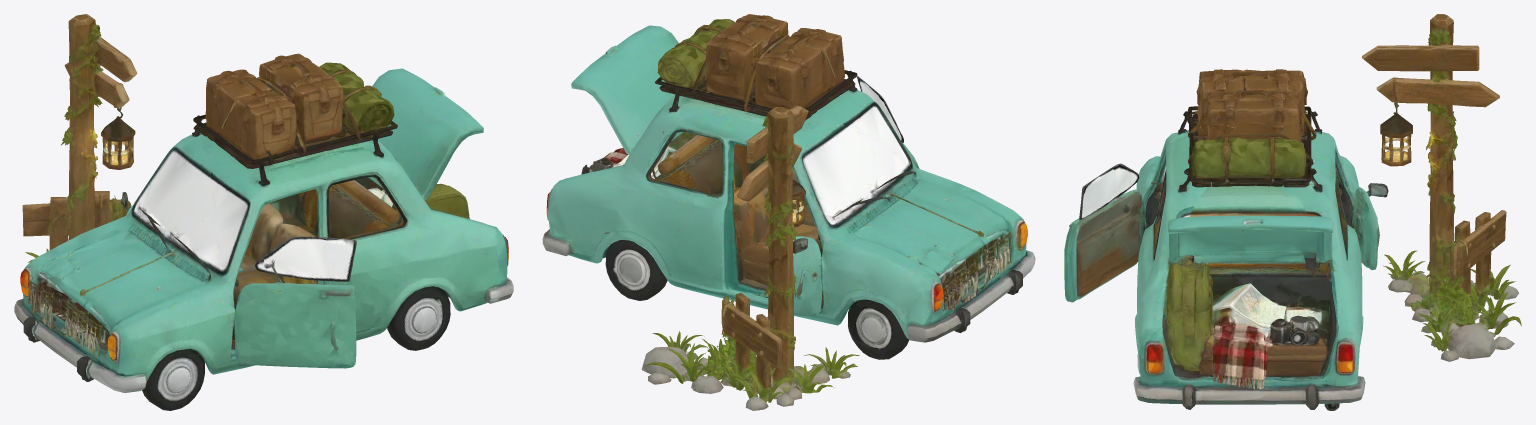
The model's file is spontanno0.glb.
The picture shows the model from 3 angles, left to right: view 1: azimuth 30°, elevation 25°; view 2: azimuth 150°, elevation 25°; view 3: azimuth 270°, elevation 25°; orthographic projection. The views are drawn at different scales.
Parts seen in each view (by area): view 1: mesh_node; view 2: mesh_node; view 3: mesh_node.
Part boxes in pixels (x1=…): mesh_node: x1=14, y1=14, x2=513, y2=410; mesh_node: x1=542, y1=14, x2=1035, y2=410; mesh_node: x1=1064, y1=14, x2=1521, y2=410.
Size of the model in its own units: 1.9 by 1.2 by 1.76.
Materials: 1 (1 with a texture image).
